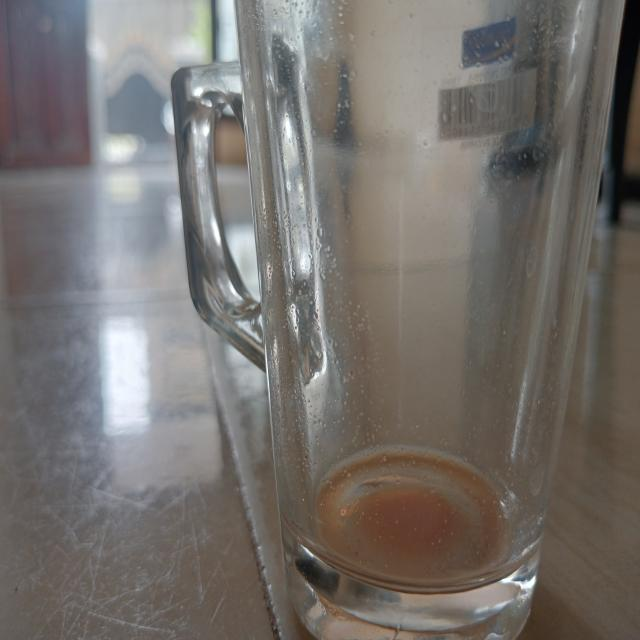glass-VX4N: (166, 0, 630, 640)
